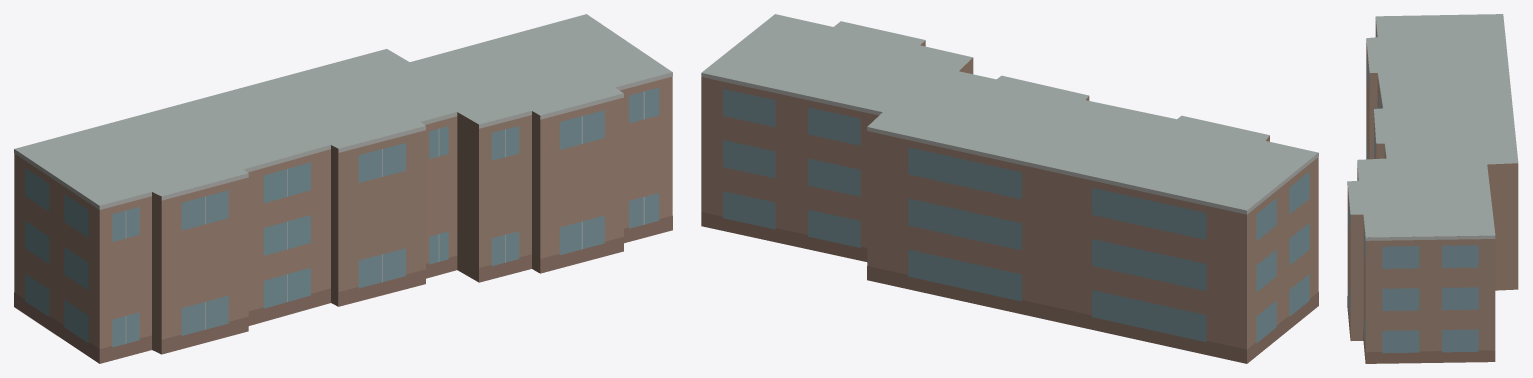
The model's file is survey-upis-32642830.glb.
3 views of the same model, side by side, from view 1: azimuth 30°, elevation 25°; view 2: azimuth 150°, elevation 25°; view 3: azimuth 270°, elevation 25° (orthographic). The views are drawn at different scales.
Visible parts, largest first — view 1: survey-upis-32642830.tmp; view 2: survey-upis-32642830.tmp; view 3: survey-upis-32642830.tmp.
Part boxes in pixels (x1,y1,x2,y2): survey-upis-32642830.tmp: [14, 14, 672, 363]; survey-upis-32642830.tmp: [701, 14, 1318, 363]; survey-upis-32642830.tmp: [1347, 14, 1518, 363].
Bounding box in the file's own units: 34.7 × 9.15 × 11.22.
